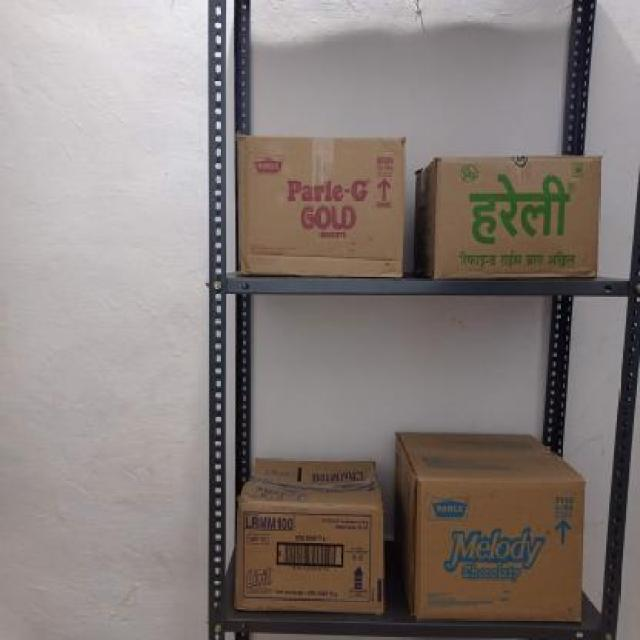box: (410, 479, 590, 618), (236, 132, 404, 278), (433, 156, 601, 278), (234, 502, 383, 610)
